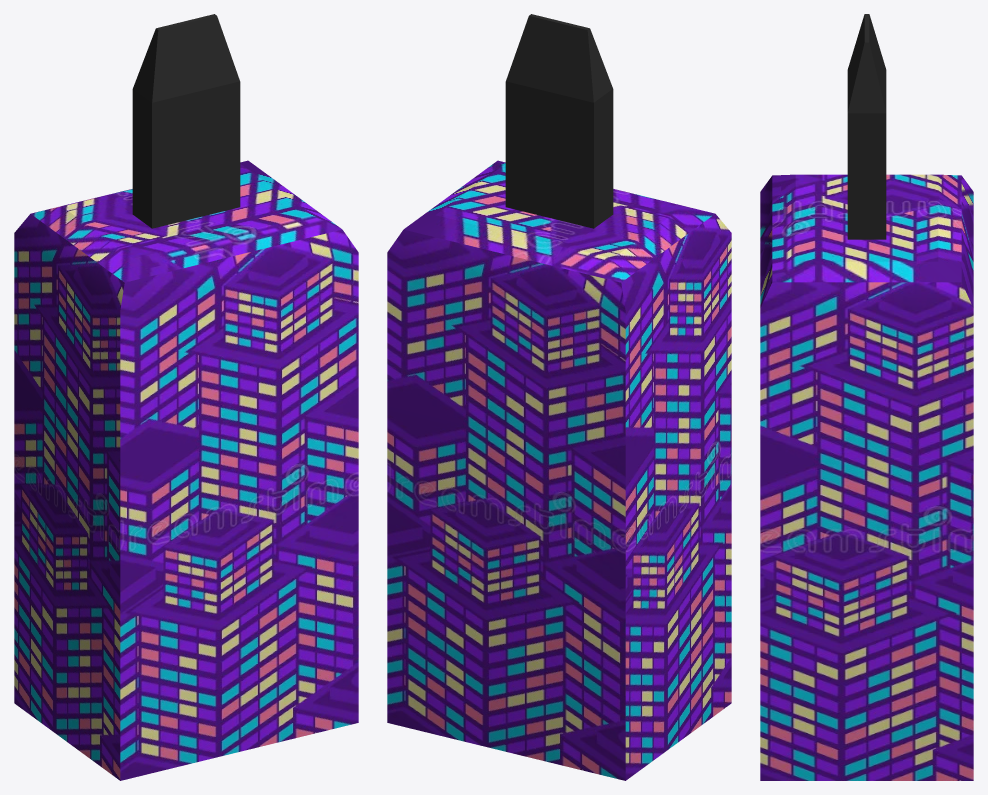
File: Edificio4.fbx
3 views of the same model, side by side, from view 1: azimuth 30°, elevation 25°; view 2: azimuth 150°, elevation 25°; view 3: azimuth 270°, elevation 25° (orthographic).
Parts seen in each view (by area): view 1: Box003; view 2: Box003; view 3: Box003.
Part boxes in pixels (box(x1,y1,x2,y2)): Box003: box(14, 14, 358, 780); Box003: box(387, 14, 731, 780); Box003: box(760, 14, 973, 780).
Size of the model in its own units: 28.2 by 78.16 by 21.74.
2 materials, 1 textured.
